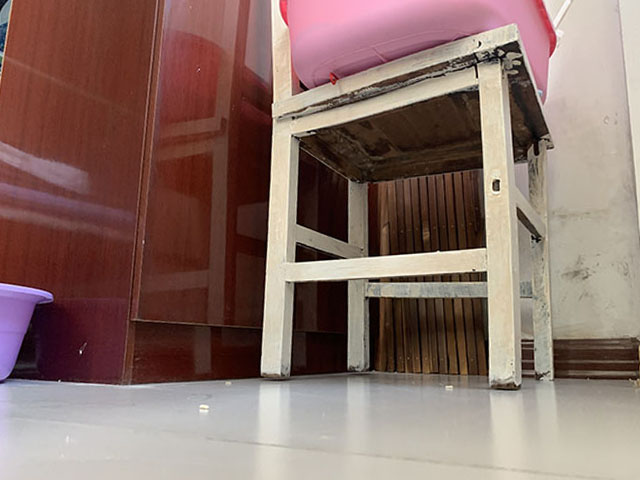cabinet: (1, 2, 349, 384)
stool: (258, 1, 559, 390)
